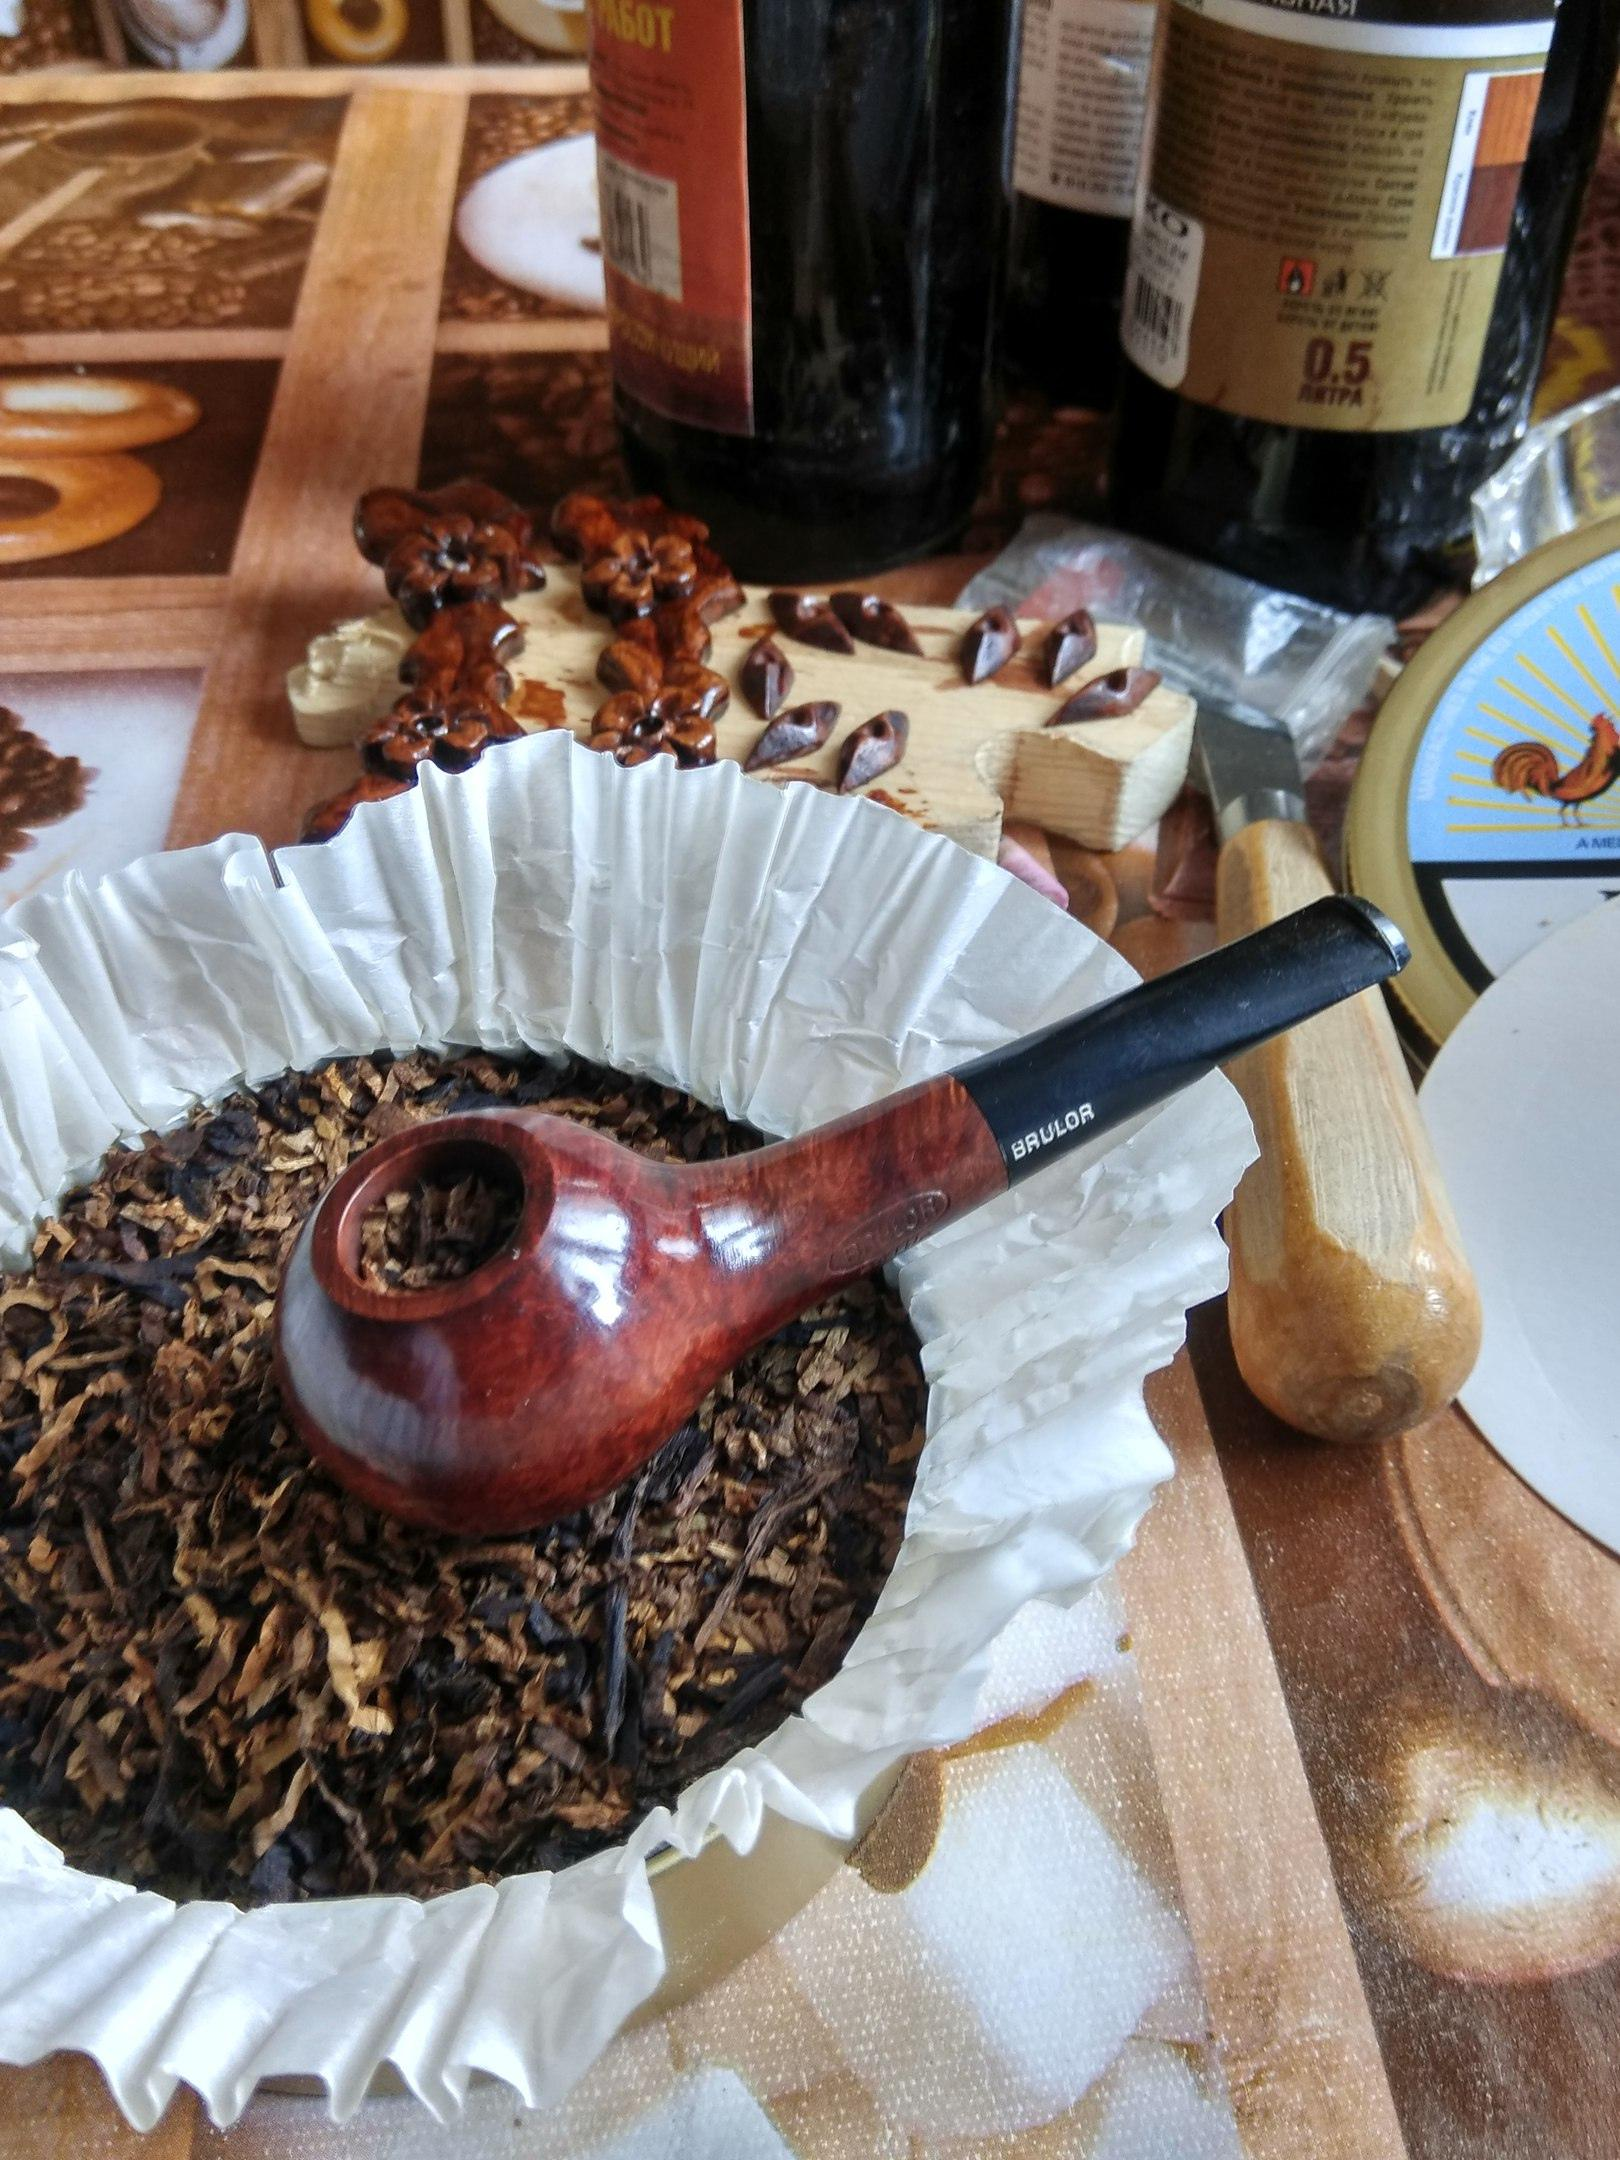trubka: (277, 896, 1407, 1532)
